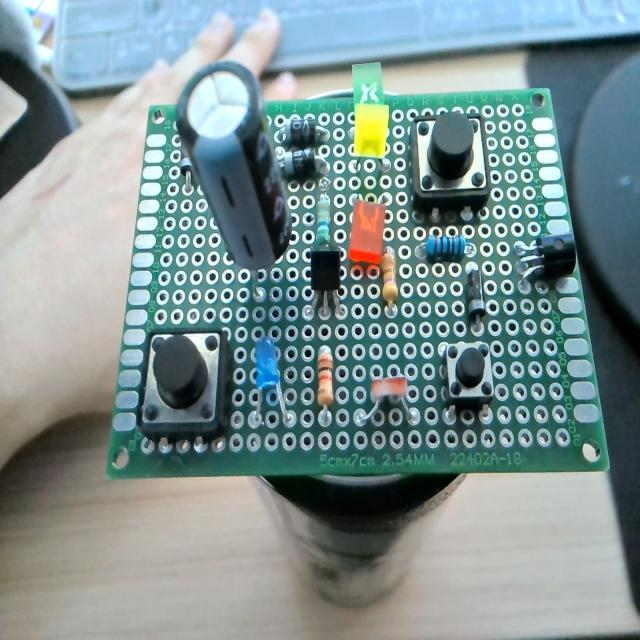Electrolytic capacitor: (174, 51, 294, 306)
cds: (358, 370, 423, 426)
diode: (276, 115, 324, 148), (278, 149, 317, 181), (465, 264, 485, 322)
led: (251, 335, 295, 429), (348, 198, 386, 266), (354, 104, 389, 157), (350, 60, 387, 106)
resistor: (316, 346, 335, 425), (426, 234, 471, 260), (381, 245, 398, 313), (316, 194, 331, 246)
switch: (138, 326, 227, 433), (410, 111, 490, 214), (441, 342, 493, 415)
transistor: (304, 226, 346, 322), (514, 232, 576, 286)
